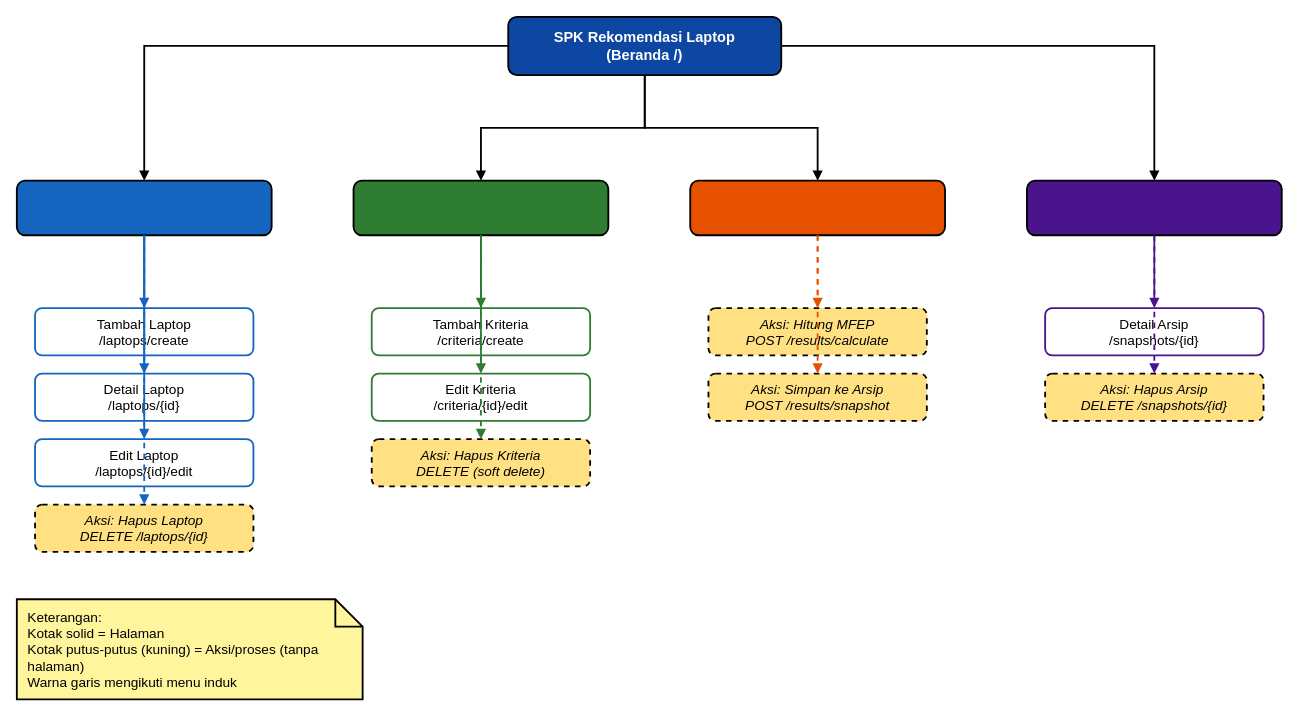
Some shapes in this 1298 by 715 pixel diagram are drawn without their labels. The shapes that lost their labels are listed below. From the top down, each one's box as (x1, y1, x2, y2) in pixels, then its label:
(15, 179, 272, 236): Data Laptop /laptops
(352, 179, 609, 236): Kriteria & Bobot /criteria
(689, 179, 945, 236): Hasil Rekomendasi /results
(1026, 179, 1282, 236): Arsip Hasil /snapshots
